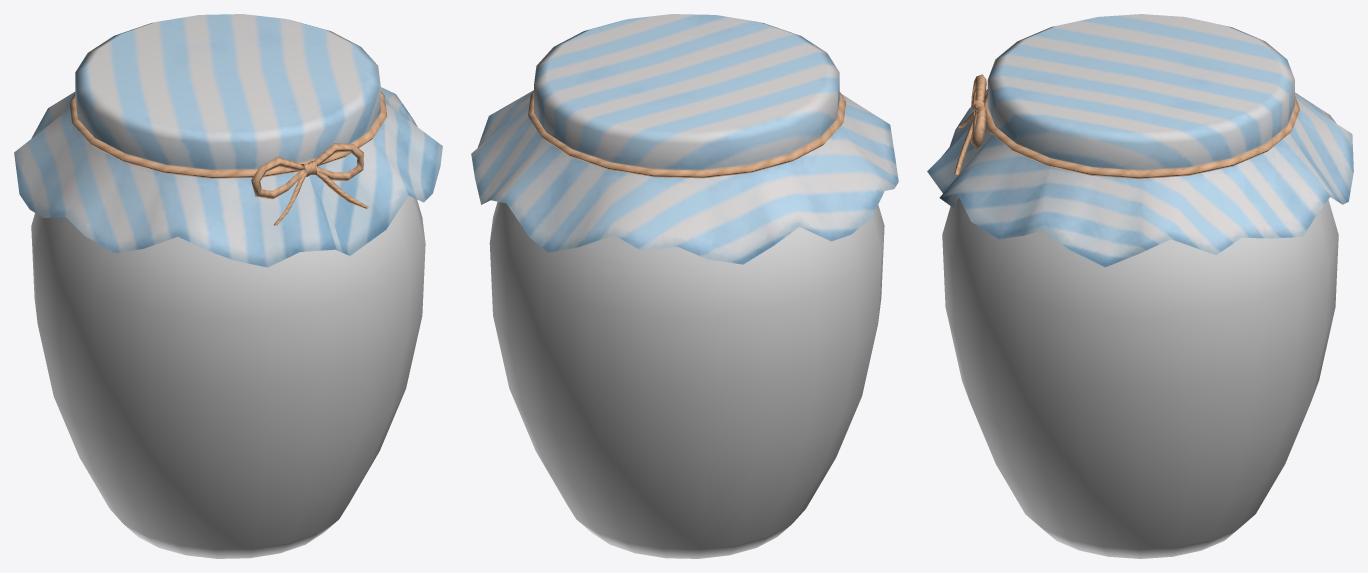
File: pi_marmalade02.gltf
3 renders of one model, left to right at view 1: azimuth 30°, elevation 25°; view 2: azimuth 150°, elevation 25°; view 3: azimuth 270°, elevation 25°, orthographic.
Visible parts, largest first — view 1: pi_marmalade02_bottle_outside01_mesh_shape:pi_marmalade02_gl, pi_marmalade02_bottle_lid01_mesh_shape:pi_marmalade02_body, pi_marmalade02_ribbon06_mesh_shape__duprename_621c68ax:pi_ma, pi_marmalade02_ribbon02_mesh_shape:pi_marmalade02_body, pi_marmalade02_ribbon03_mesh_shape:pi_marmalade02_body; view 2: pi_marmalade02_bottle_outside01_mesh_shape:pi_marmalade02_gl, pi_marmalade02_bottle_lid01_mesh_shape:pi_marmalade02_body, pi_marmalade02_ribbon06_mesh_shape__duprename_621c68ax:pi_ma; view 3: pi_marmalade02_bottle_outside01_mesh_shape:pi_marmalade02_gl, pi_marmalade02_bottle_lid01_mesh_shape:pi_marmalade02_body, pi_marmalade02_ribbon06_mesh_shape__duprename_621c68ax:pi_ma.
Boxes of the visible parts, x1,y1,x2,y2 form: pi_marmalade02_bottle_outside01_mesh_shape:pi_marmalade02_gl: (31, 196, 425, 558); pi_marmalade02_bottle_lid01_mesh_shape:pi_marmalade02_body: (14, 14, 442, 267); pi_marmalade02_ribbon06_mesh_shape__duprename_621c68ax:pi_ma: (69, 91, 387, 178); pi_marmalade02_ribbon02_mesh_shape:pi_marmalade02_body: (251, 157, 306, 199); pi_marmalade02_ribbon03_mesh_shape:pi_marmalade02_body: (313, 143, 363, 181); pi_marmalade02_bottle_outside01_mesh_shape:pi_marmalade02_gl: (489, 201, 884, 558); pi_marmalade02_bottle_lid01_mesh_shape:pi_marmalade02_body: (471, 14, 898, 264); pi_marmalade02_ribbon06_mesh_shape__duprename_621c68ax:pi_ma: (528, 91, 846, 178); pi_marmalade02_bottle_outside01_mesh_shape:pi_marmalade02_gl: (942, 198, 1338, 558); pi_marmalade02_bottle_lid01_mesh_shape:pi_marmalade02_body: (927, 14, 1353, 267); pi_marmalade02_ribbon06_mesh_shape__duprename_621c68ax:pi_ma: (984, 91, 1299, 178).
Bounding box in the file's own units: 0.1037 × 0.1188 × 0.1039.
4 materials, 4 textured.
